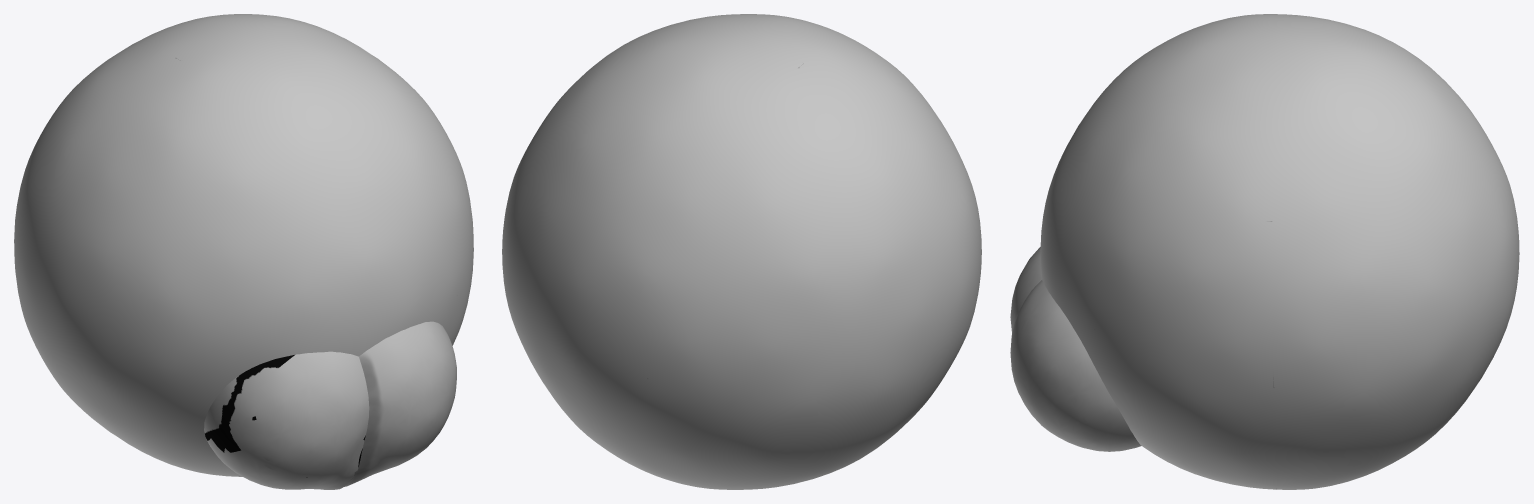
The model's file is Moon_full_V2.fbx.
3 views of the same model, side by side, from view 1: azimuth 30°, elevation 25°; view 2: azimuth 150°, elevation 25°; view 3: azimuth 270°, elevation 25° (orthographic). The views are drawn at different scales.
Parts seen in each view (by area): view 1: MoonV2, Left Cheek.001, Right Cheek; view 2: MoonV2; view 3: MoonV2, Right Cheek, Left Cheek.001.
Boxes of the visible parts, left/top/right/bottom form: MoonV2: left=14, top=14, right=473, bottom=476; Left Cheek.001: left=204, top=351, right=369, bottom=489; Right Cheek: left=344, top=321, right=456, bottom=486; MoonV2: left=502, top=14, right=981, bottom=489; MoonV2: left=1040, top=14, right=1519, bottom=489; Right Cheek: left=1010, top=280, right=1141, bottom=451; Left Cheek.001: left=1010, top=247, right=1041, bottom=333.
Bounding box in the file's own units: 185 × 185 × 198.
